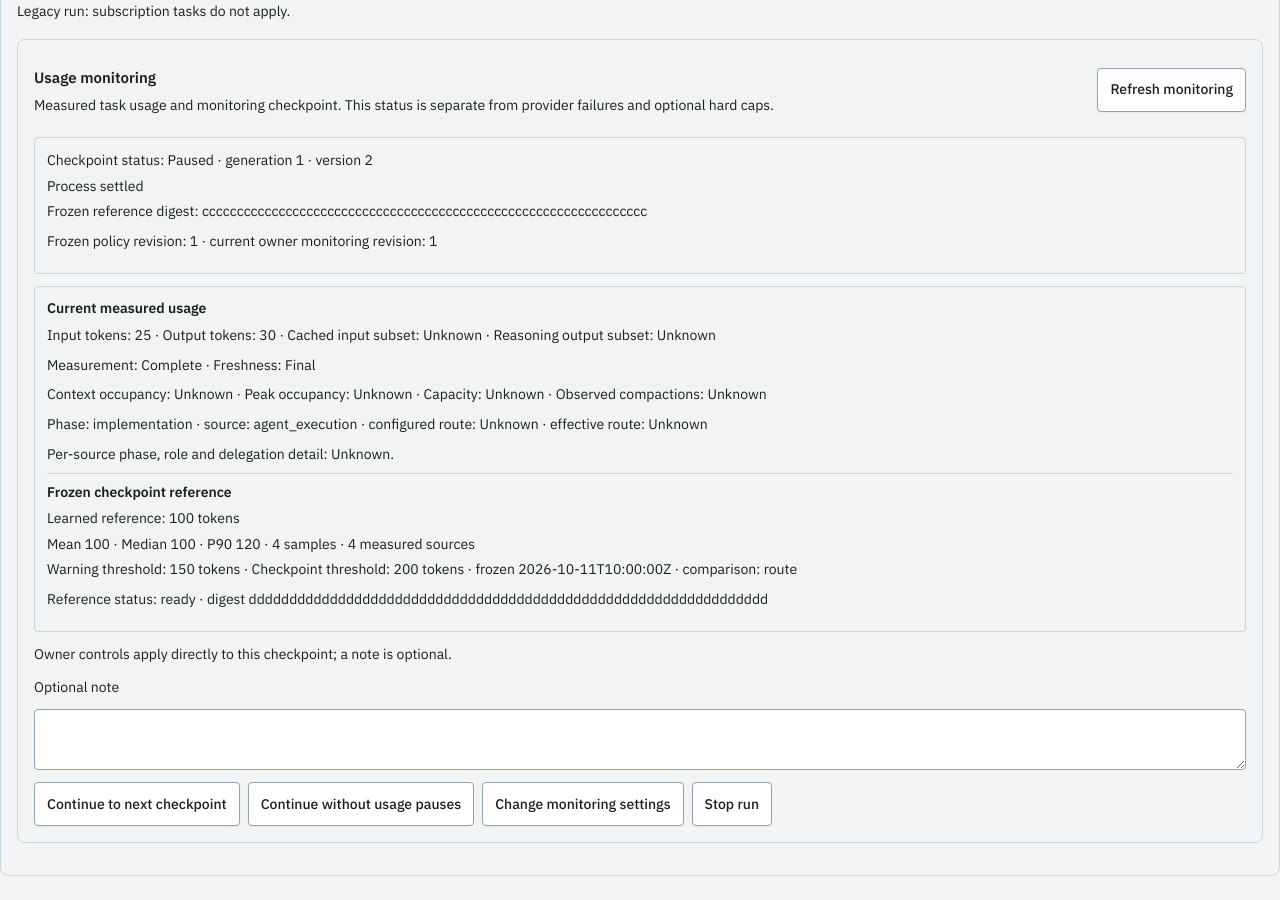
Test case: ordinary non-subscription run shows measured checkpoint controls and can continue an owner checkpoint
(page scrolled)
Expected: the text "Legacy run: subscription tasks do not apply." is shown, [17,2,290,20]
Click the button "Continue to next checkpoint" at (137, 804), box [34,782,240,826]
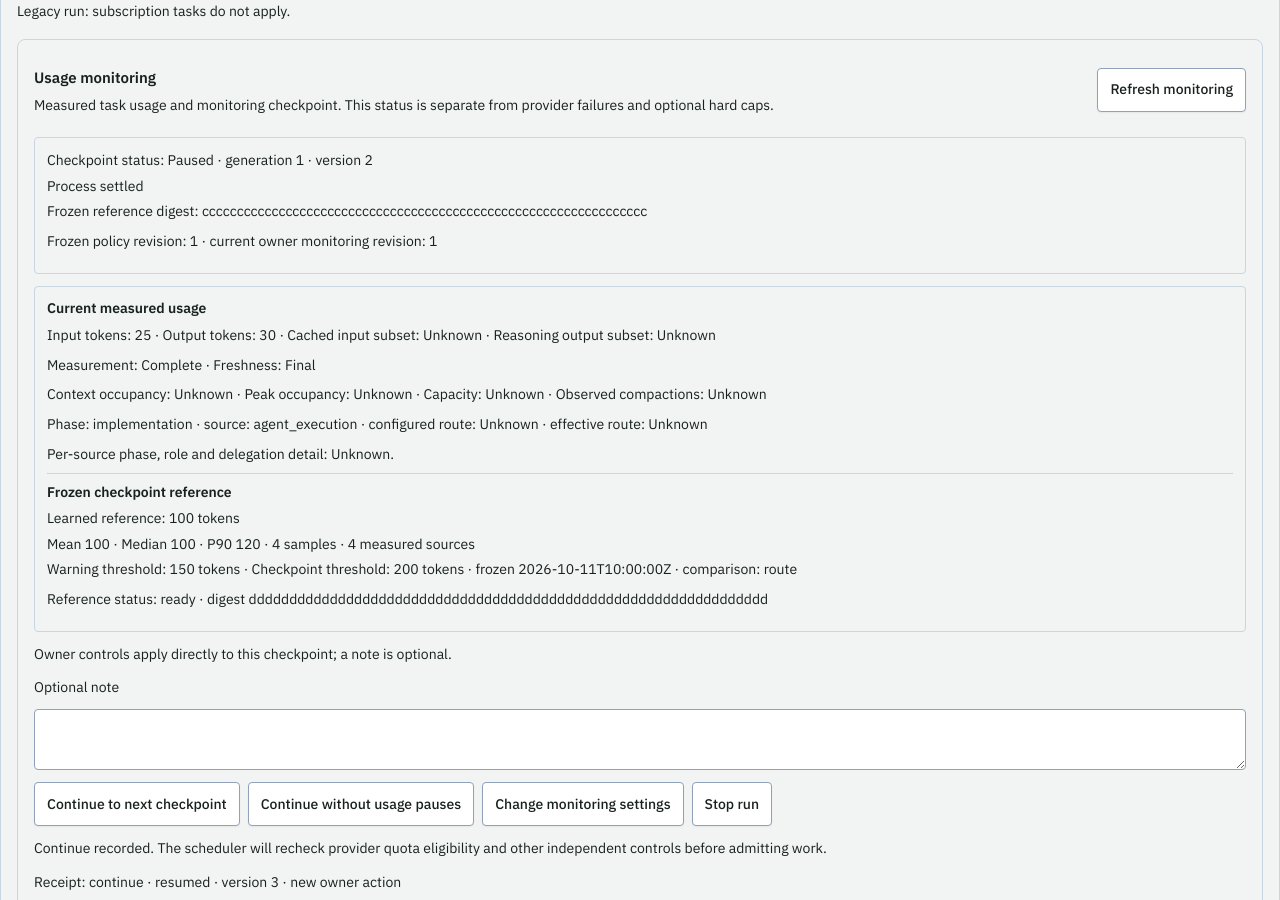
Now the text "Continue recorded" is shown, box [34,839,827,857]
